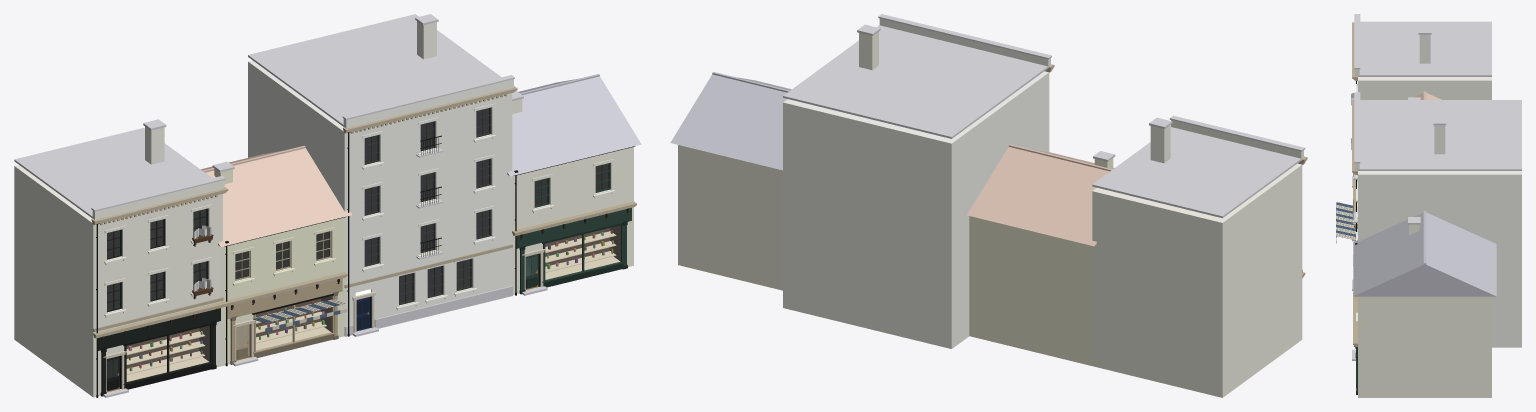
The model's file is social-cafe-north-frontage.glb.
The picture shows the model from 3 angles, left to right: view 1: azimuth 30°, elevation 25°; view 2: azimuth 150°, elevation 25°; view 3: azimuth 270°, elevation 25°; orthographic projection. The views are drawn at different scales.
Visible parts, largest first — view 1: mesh_cebc8f3b53ee_503, mesh_cebc8f3b53ee_422, mesh_cebc8f3b53ee_497, mesh_cebc8f3b53ee_389, mesh_cebc8f3b53ee_564, mesh_cebc8f3b53ee_496, mesh_cebc8f3b53ee_559, mesh_cebc8f3b53ee_488, mesh_cebc8f3b53ee_391, mesh_cebc8f3b53ee_419, mesh_cebc8f3b53ee_557, mesh_cebc8f3b53ee_382 (+23 smaller); view 2: mesh_cebc8f3b53ee_503, mesh_cebc8f3b53ee_422, mesh_cebc8f3b53ee_497, mesh_cebc8f3b53ee_488, mesh_cebc8f3b53ee_559, mesh_cebc8f3b53ee_389, mesh_cebc8f3b53ee_496, mesh_cebc8f3b53ee_564, mesh_cebc8f3b53ee_521; view 3: mesh_cebc8f3b53ee_559, mesh_cebc8f3b53ee_503, mesh_cebc8f3b53ee_497, mesh_cebc8f3b53ee_564, mesh_cebc8f3b53ee_389, mesh_cebc8f3b53ee_422, mesh_cebc8f3b53ee_521, mesh_cebc8f3b53ee_520, mesh_cebc8f3b53ee_558, mesh_cebc8f3b53ee_435.
Boxes of the visible parts, x1,y1,x2,y2 form: mesh_cebc8f3b53ee_503: (248, 60, 513, 326); mesh_cebc8f3b53ee_422: (14, 126, 224, 397); mesh_cebc8f3b53ee_497: (248, 14, 547, 336); mesh_cebc8f3b53ee_389: (14, 119, 258, 397); mesh_cebc8f3b53ee_564: (507, 74, 641, 176); mesh_cebc8f3b53ee_496: (201, 145, 351, 246); mesh_cebc8f3b53ee_559: (512, 99, 633, 294); mesh_cebc8f3b53ee_488: (214, 168, 344, 365); mesh_cebc8f3b53ee_391: (126, 301, 330, 381); mesh_cebc8f3b53ee_419: (127, 326, 209, 381); mesh_cebc8f3b53ee_557: (546, 226, 620, 279); mesh_cebc8f3b53ee_382: (98, 308, 220, 392); mesh_cebc8f3b53ee_503: (783, 18, 1050, 348); mesh_cebc8f3b53ee_422: (1092, 120, 1303, 397); mesh_cebc8f3b53ee_497: (783, 14, 1051, 138); mesh_cebc8f3b53ee_488: (969, 158, 1113, 365); mesh_cebc8f3b53ee_559: (678, 145, 782, 290); mesh_cebc8f3b53ee_389: (1092, 115, 1305, 218); mesh_cebc8f3b53ee_496: (967, 144, 1114, 246); mesh_cebc8f3b53ee_564: (670, 72, 791, 170); mesh_cebc8f3b53ee_521: (859, 32, 878, 70); mesh_cebc8f3b53ee_559: (1356, 224, 1491, 397); mesh_cebc8f3b53ee_503: (1355, 163, 1521, 347); mesh_cebc8f3b53ee_497: (1352, 92, 1521, 360); mesh_cebc8f3b53ee_564: (1353, 211, 1496, 296); mesh_cebc8f3b53ee_389: (1352, 14, 1491, 241); mesh_cebc8f3b53ee_422: (1355, 34, 1491, 99); mesh_cebc8f3b53ee_521: (1434, 125, 1445, 154); mesh_cebc8f3b53ee_520: (1352, 100, 1357, 174); mesh_cebc8f3b53ee_558: (1353, 293, 1357, 346); mesh_cebc8f3b53ee_435: (1352, 22, 1357, 80).
Bounding box in the file's own units: 35.94 × 15.71 × 12.47.
